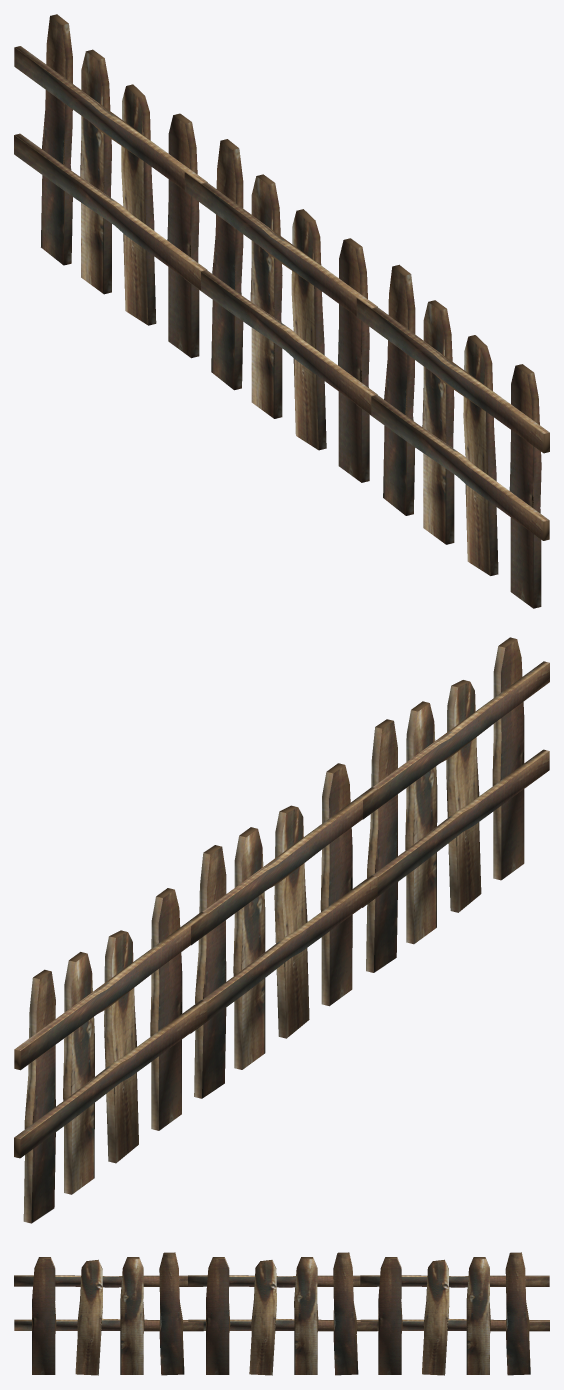
The model's file is fence_long.obj.
The picture shows the model from 3 angles, top to bottom: view 1: azimuth 30°, elevation 25°; view 2: azimuth 150°, elevation 25°; view 3: azimuth 270°, elevation 25°; orthographic projection. The views are drawn at different scales.
Bounding box in the file's own units: 6.26 × 91.52 × 367.
Materials: 1 (1 with a texture image).
